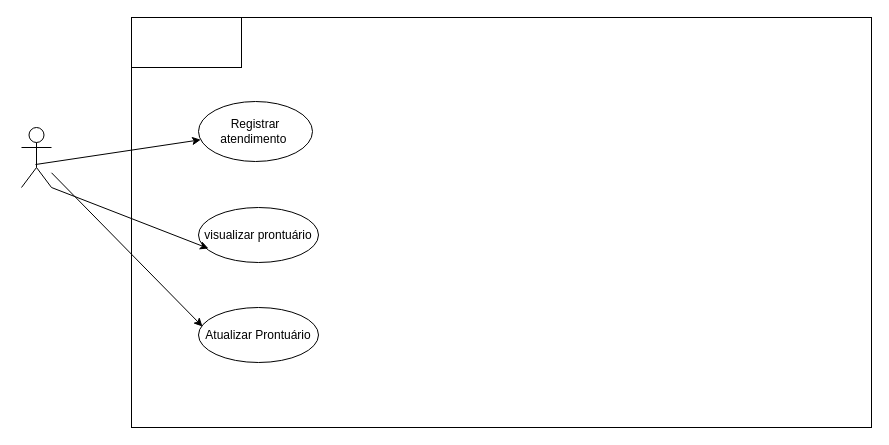
Image size: 889x445. Some labels were removed from this diagram. Each missing label, with the centre of its shape:
medico: (36,157)
VisionCare Prontuário: (186,42)
